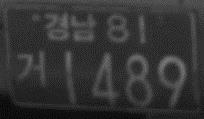1: (57, 51, 80, 103), (134, 15, 151, 43)
4: (92, 51, 120, 105)
8: (124, 53, 153, 107), (106, 12, 130, 42)
9: (157, 55, 187, 107)
거: (14, 48, 48, 87)
경남_O: (43, 12, 97, 42)
